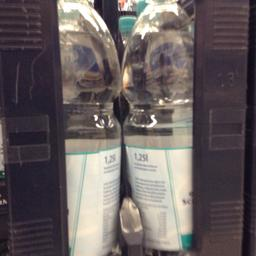water: (120, 0, 192, 254), (56, 0, 123, 255)
